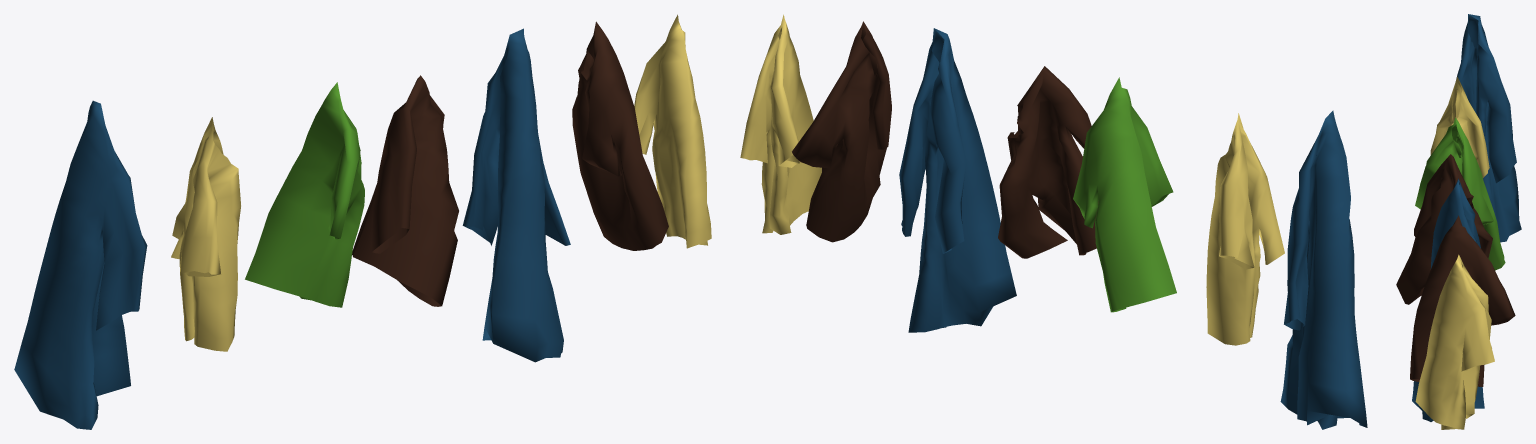
The model's file is cloths.fbx.
3 renders of one model, left to right at view 1: azimuth 30°, elevation 25°; view 2: azimuth 150°, elevation 25°; view 3: azimuth 270°, elevation 25°, orthographic. The views are drawn at different scales.
Visible parts, largest first — view 1: cloth.009, cloth.005, cloth.008, cloth.006, cloth.004, cloth.007, cloth.003; view 2: cloth.005, cloth.009, cloth.008, cloth.006, cloth.004, cloth.007, cloth.003; view 3: cloth.003, cloth.009, cloth.004, cloth.006, cloth.008, cloth.007, cloth.005.
Boxes of the visible parts, box(x1,y1,x2,y2) form: cloth.009: box(14, 100, 147, 429); cloth.005: box(462, 28, 570, 362); cloth.008: box(245, 82, 364, 307); cloth.006: box(352, 75, 458, 306); cloth.004: box(572, 21, 668, 250); cloth.007: box(171, 117, 240, 351); cloth.003: box(634, 14, 711, 248); cloth.005: box(899, 28, 1016, 332); cloth.009: box(1280, 110, 1367, 429); cloth.008: box(1073, 77, 1176, 312); cloth.006: box(998, 66, 1098, 258); cloth.004: box(792, 21, 891, 242); cloth.007: box(1206, 113, 1284, 345); cloth.003: box(740, 14, 821, 234); cloth.003: box(1415, 254, 1494, 429); cloth.009: box(1456, 14, 1521, 242); cloth.004: box(1410, 215, 1515, 386); cloth.006: box(1396, 154, 1492, 304); cloth.008: box(1415, 117, 1505, 270); cloth.007: box(1430, 76, 1489, 177); cloth.005: box(1412, 178, 1484, 421).
Bounding box in the file's own units: 401 × 199 × 90.5.
